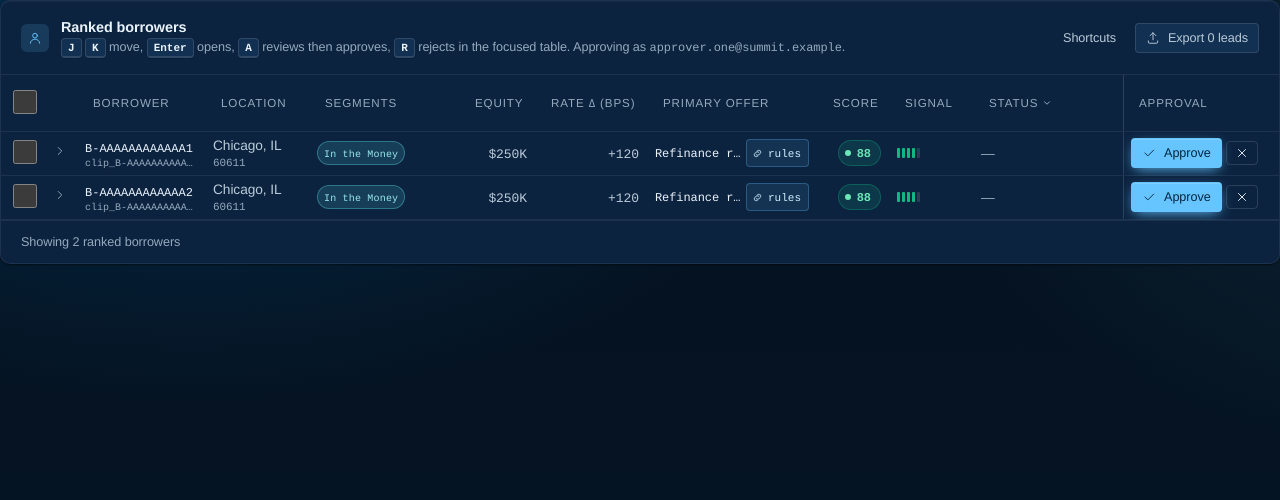
LeadTable A/R hotkeys from row-internal focus › focus scope (tables-v2 / a11y-09) › Shift+R and the Cmd-K reject verb only open the reject gate; one row opens its own panel (tables-07)
Step 1. Click the checkbox with test id "lead-select-B-AAAAAAAAAAAA1" → {"x": 25, "y": 152}, box [13,140,37,164]
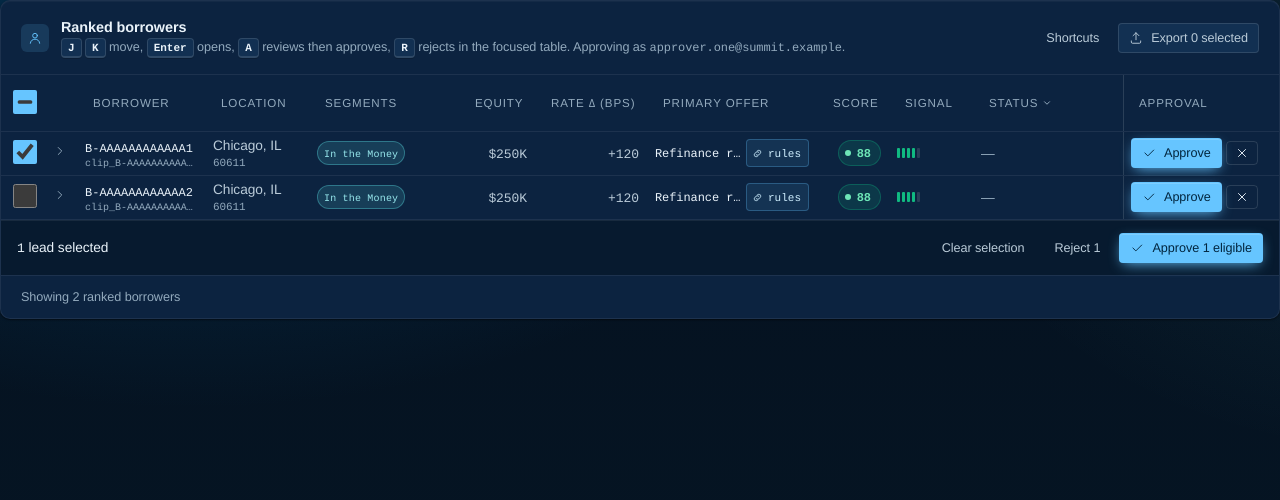
Step 2. Click the checkbox with test id "lead-select-B-AAAAAAAAAAAA2" → {"x": 25, "y": 196}, box [13,184,37,208]
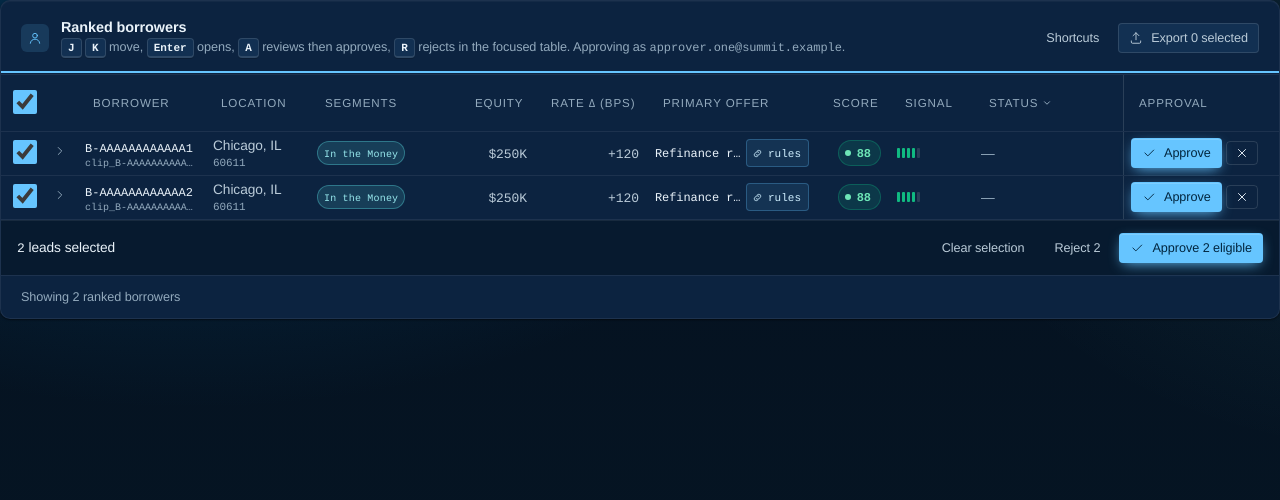
Step 3. Press R in the element with class "tbl-wrap", box [1,75,1279,220]
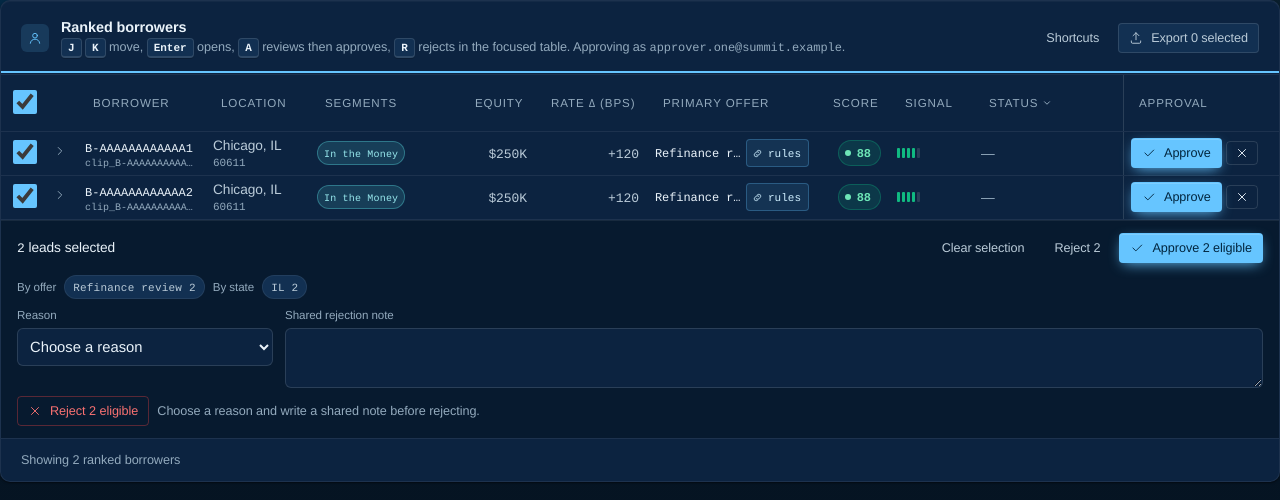
Now the form with test id "lead-bulk-reject-gate" is shown, box [17,275,1263,426]
Step 4. Press R in the element with class "tbl-wrap", box [1,75,1279,220]
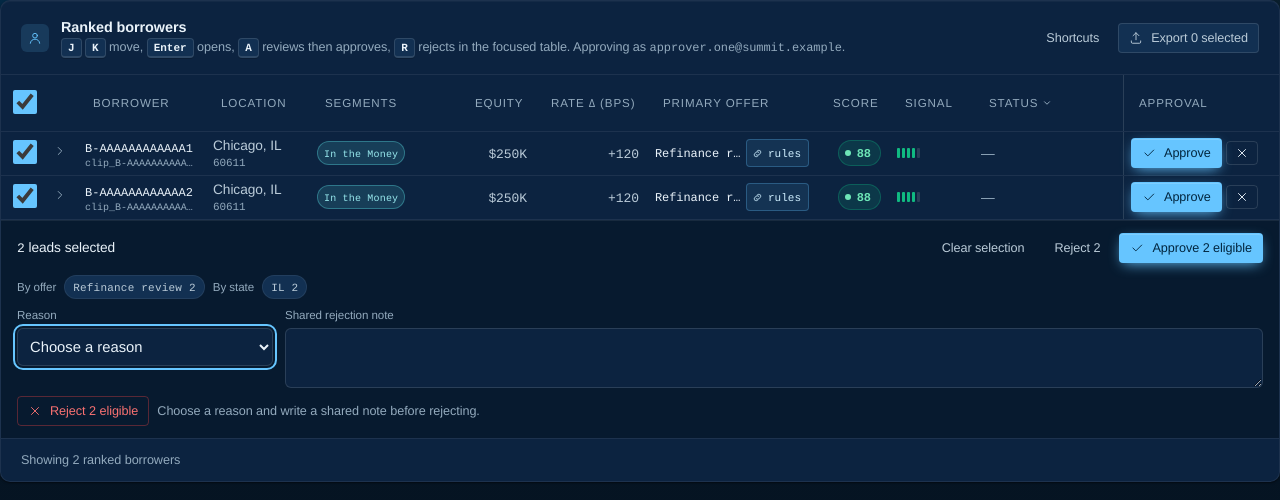
Now the form with test id "lead-bulk-reject-gate" is shown, box [17,275,1263,426]
Step 5. Click the checkbox with test id "lead-select-B-AAAAAAAAAAAA2" → {"x": 25, "y": 196}, box [13,184,37,208]
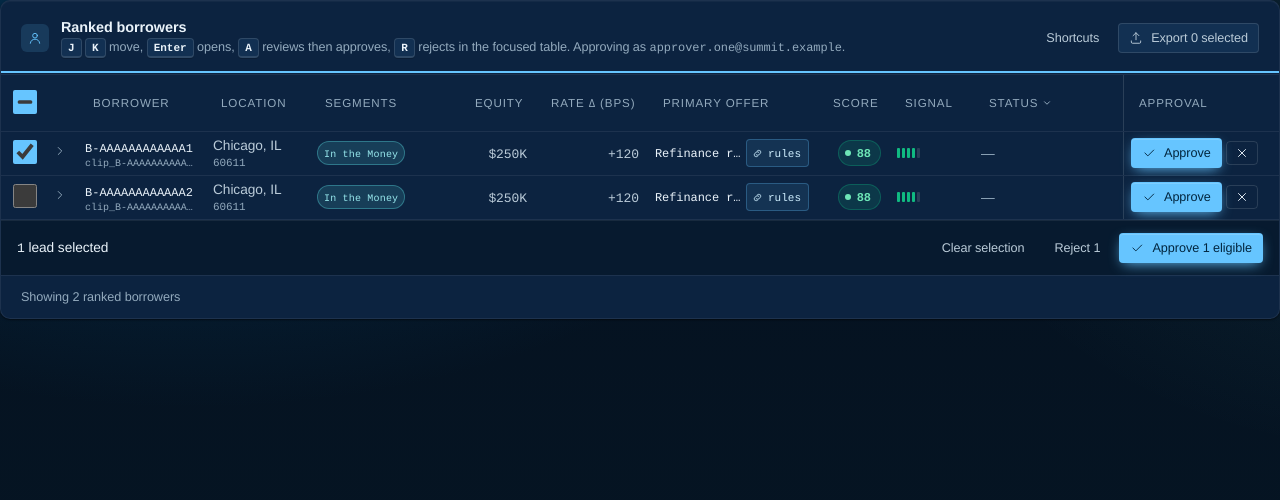
Step 6. Press R in the element with class "tbl-wrap", box [1,75,1279,220]
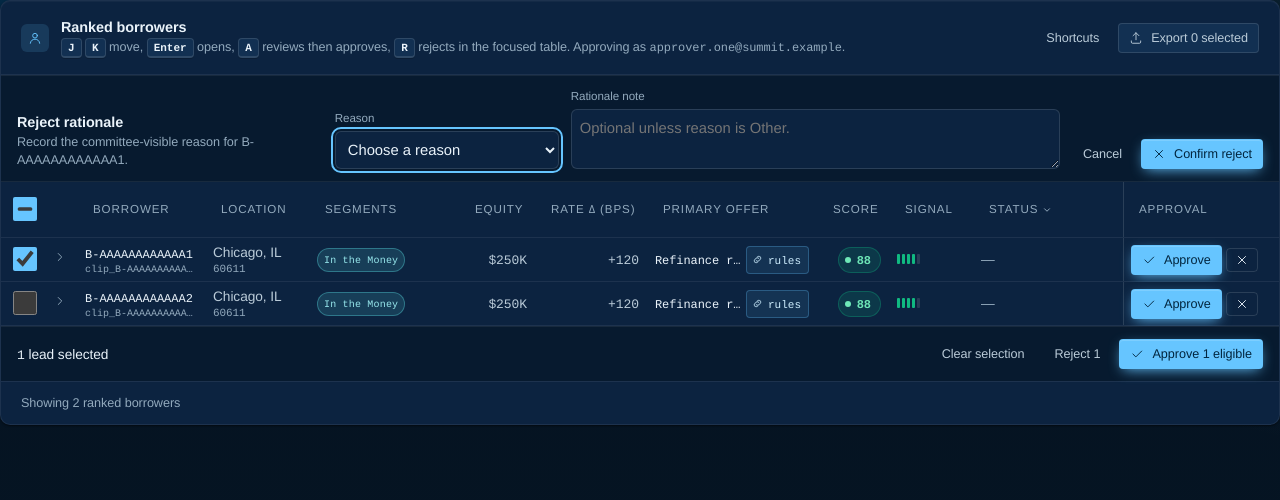
Now the form with class "decision-panel" shows "B-AAAAAAAAAAAA1", box [17,134,254,168]
